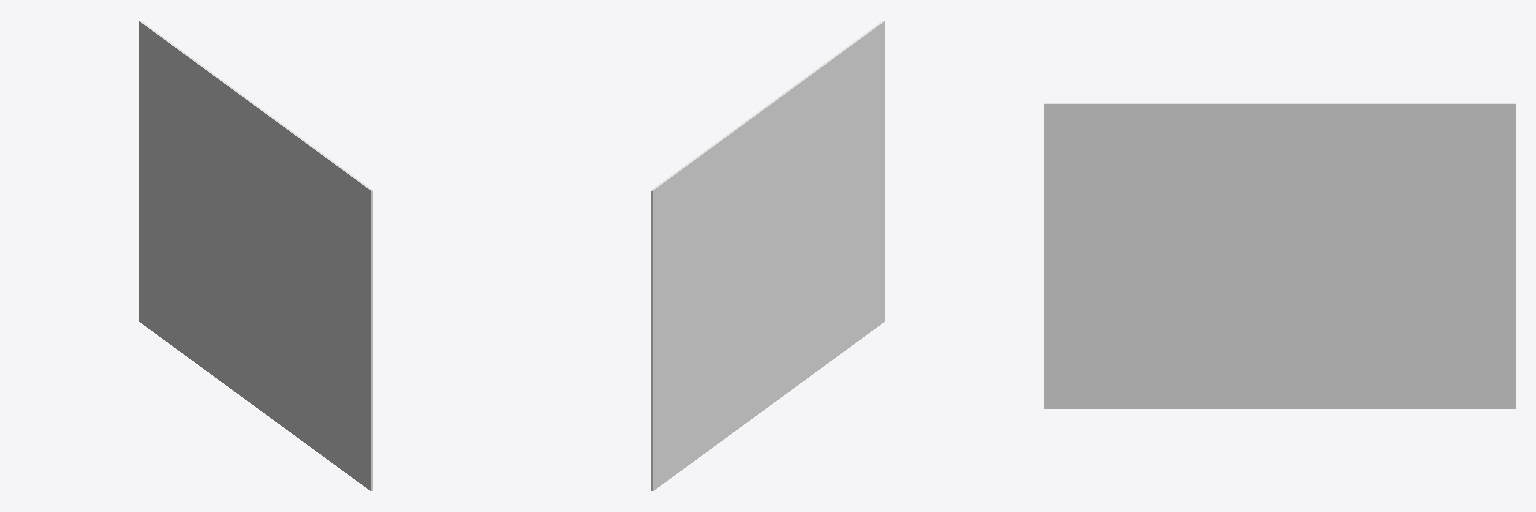
The robot description file, URDF, robot "wall.urdf":
<?xml version="1.0" ?>
<robot name="wall.urdf">
  <link name="wall">
    <contact>
      <lateral_friction value="1.0"/>
      <rolling_friction value="0.0"/>
      <contact_cfm value="0.0"/>
      <contact_erp value="1.0"/>
    </contact>
    <inertial>
      <origin rpy="0 0 0" xyz="0.0 0.02 0.0"/>
       <mass value="0.1"/>
       <inertia ixx="1" ixy="0" ixz="0" iyy="1" iyz="0" izz="1"/>
    </inertial>
    <visual>
      <origin rpy="0 0 0" xyz="0 0 0"/>
      <geometry>
        <box size="0.05 10.5 7.5"/>
      </geometry>
       <material name="white">
        <color rgba="1 1 1 1"/>
      </material>
    </visual>
    <collision>
      <origin rpy="0 0 0" xyz="0 0 0"/>
      <geometry>
        <box size="0.05 10.5 7.5"/>
      </geometry>
    </collision>
  </link>
</robot>

--- Render facts (derived) ---
The picture shows the robot from 3 angles, left to right: view 1: azimuth 30°, elevation 25°; view 2: azimuth 150°, elevation 25°; view 3: azimuth 270°, elevation 25°; orthographic projection.
Model wall.urdf with 1 links and 0 joints (none), rooted at wall, posed all joints at 0.
Visible links, largest first — view 1: wall; view 2: wall; view 3: wall.
Boxes of the visible links, x1,y1,x2,y2 form: wall: (139, 21, 372, 490); wall: (651, 21, 884, 490); wall: (1044, 103, 1515, 408).
Size in the robot's own frame: 0.05 by 10.5 by 7.5 metres.
Geometry: primitives only (box / cylinder / sphere), no mesh files.